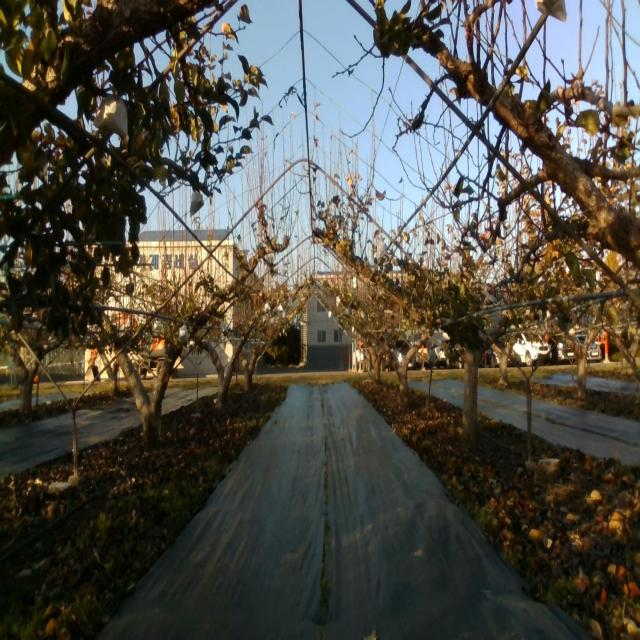pearbags: (94, 97, 129, 142), (189, 192, 204, 218), (377, 238, 388, 261), (178, 324, 189, 344)
